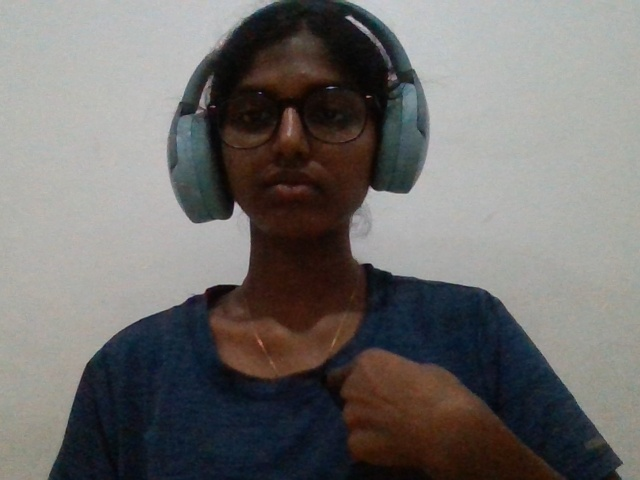Me: (280, 321, 527, 480)
